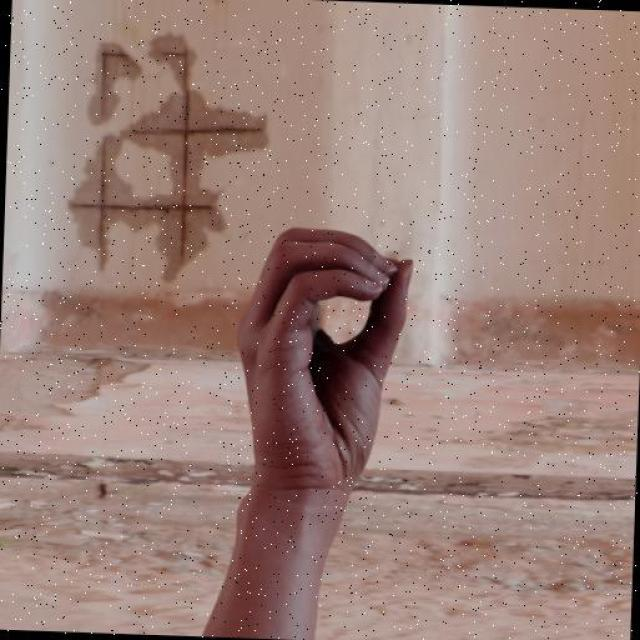O: (227, 216, 417, 495)
